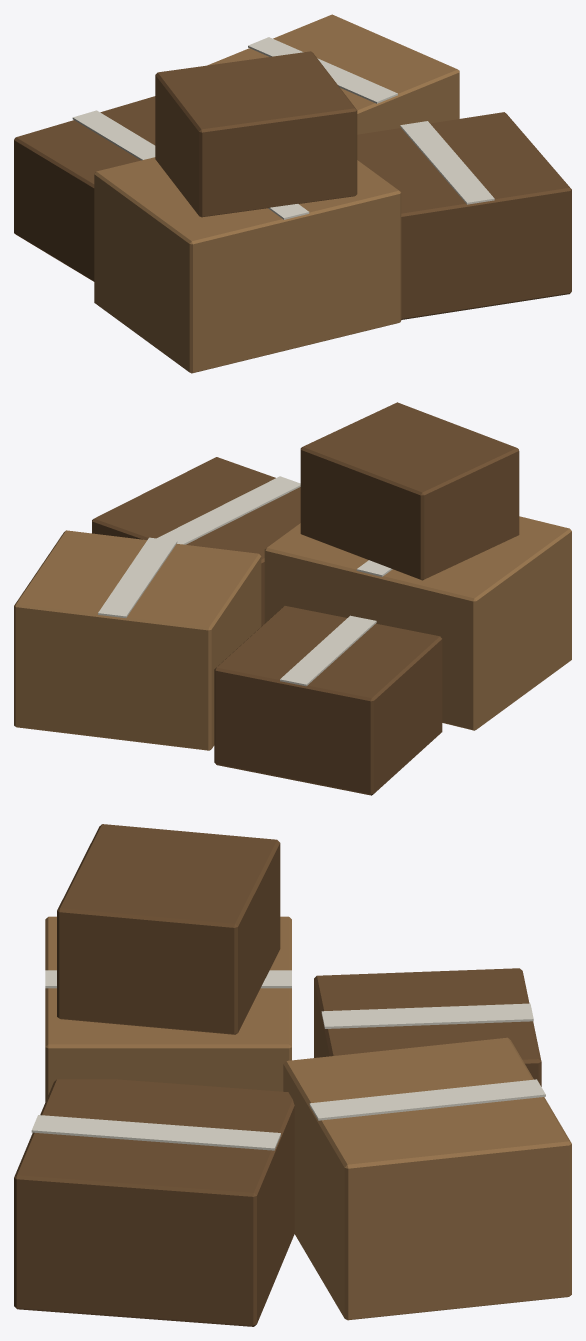
Rendered from boxes_small.glb.
3 views of the same model, one above another, from view 1: azimuth 30°, elevation 25°; view 2: azimuth 150°, elevation 25°; view 3: azimuth 270°, elevation 25° (orthographic). The views are drawn at different scales.
Visible parts, largest first — view 1: boxes_small; view 2: boxes_small; view 3: boxes_small.
Part boxes in pixels (left/top/right/bottom): boxes_small: left=14, top=14, right=571, bottom=373; boxes_small: left=14, top=402, right=571, bottom=795; boxes_small: left=14, top=824, right=571, bottom=1326.
Size of the model in its own units: 0.9408 by 0.5 by 0.9048.
